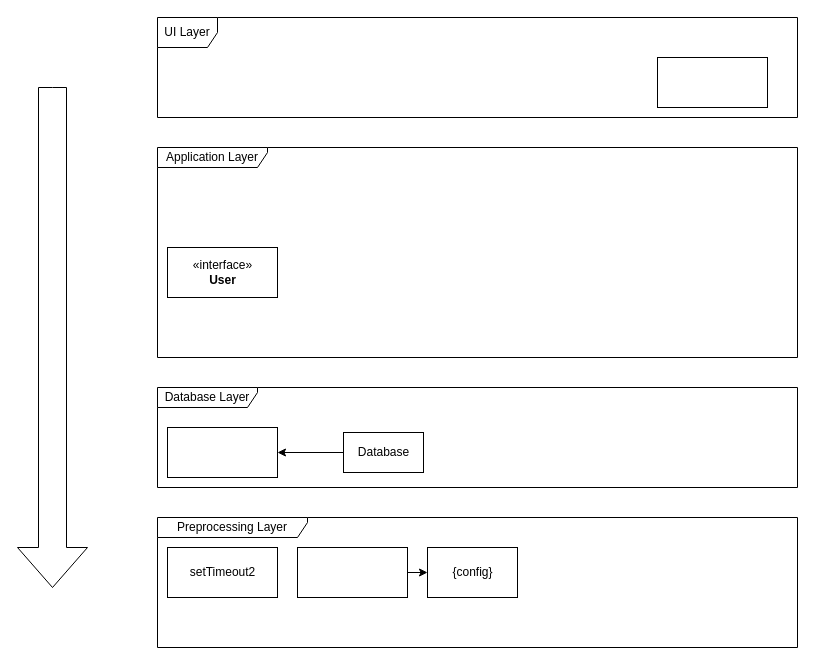
Some shapes in this 815 by 665 pixel diagram are drawn without their labels. Each missing label, with the centre of its shape:
Use: (52,337)
«class» File, Directory: (222,452)
«factory» View: (712,82)
«interface» config: (352,572)
